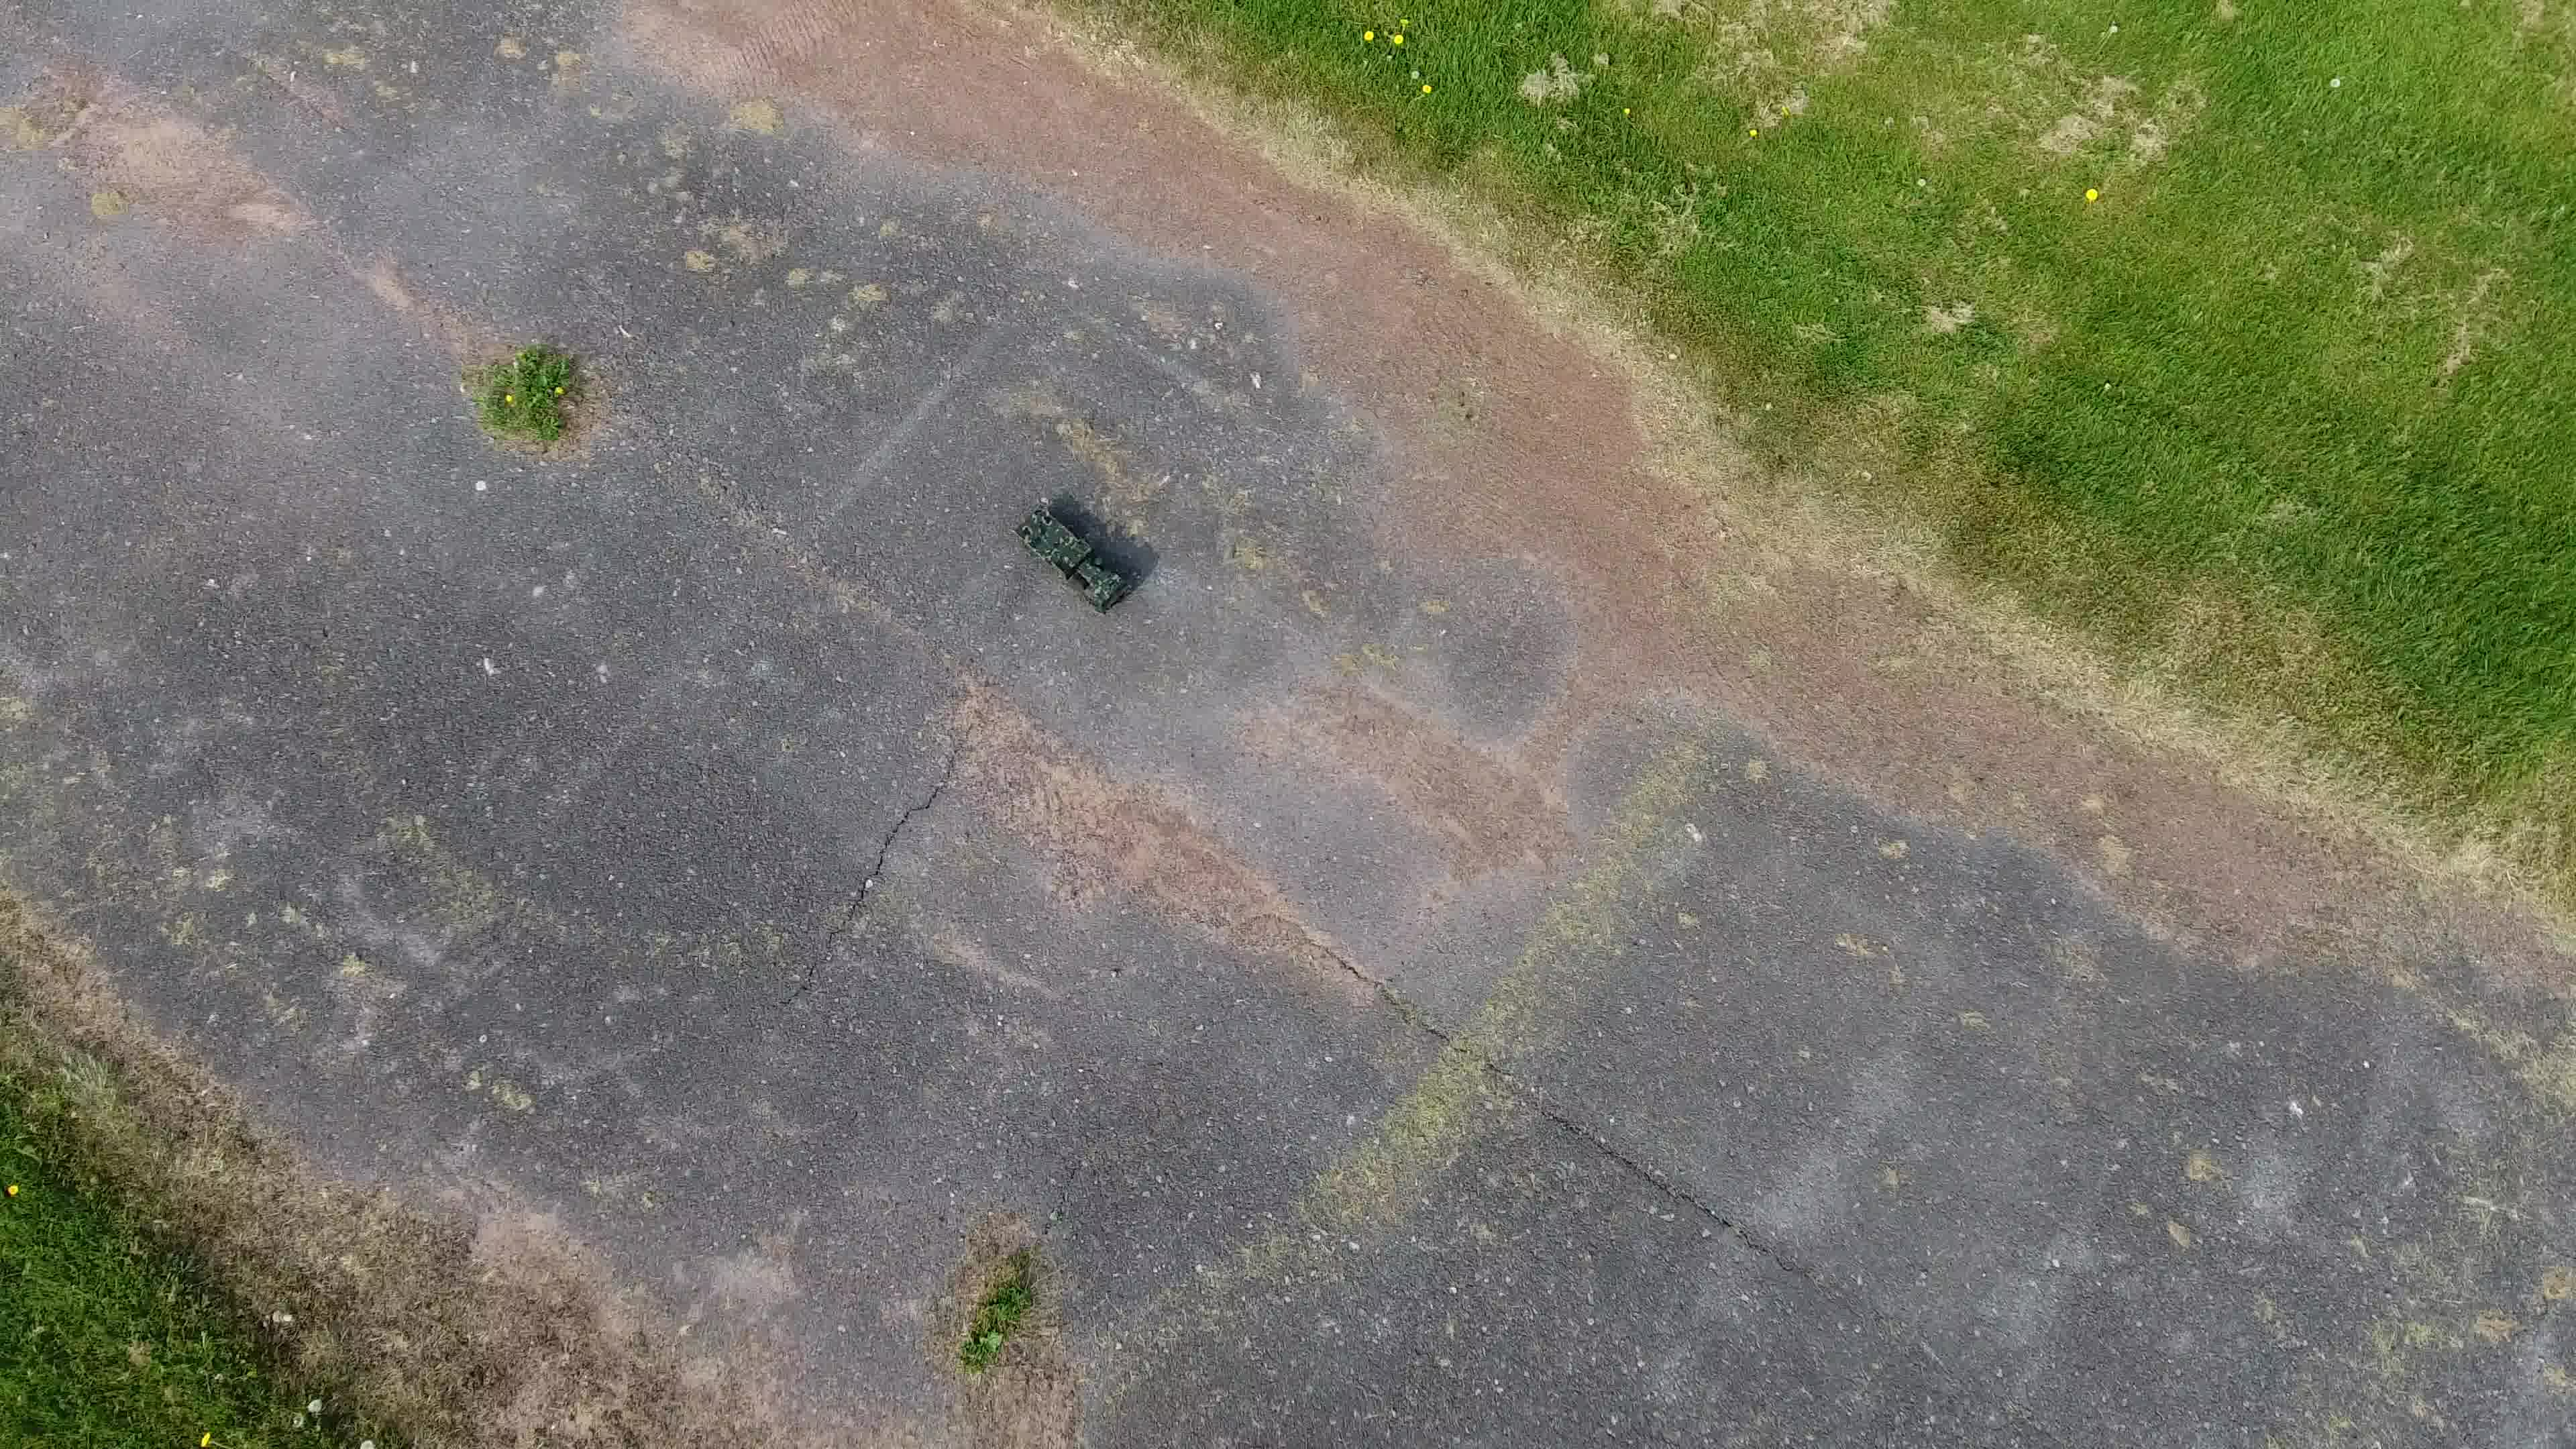transporter9_camo: (1008, 502, 1141, 617)
